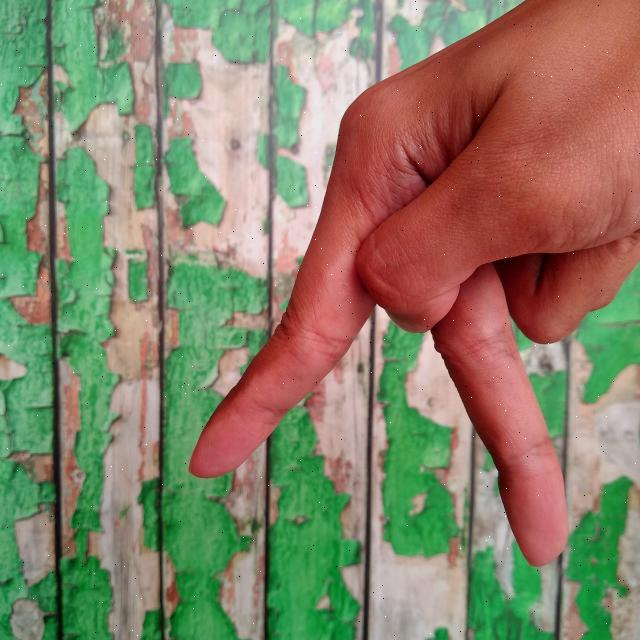P: (179, 0, 640, 569)
